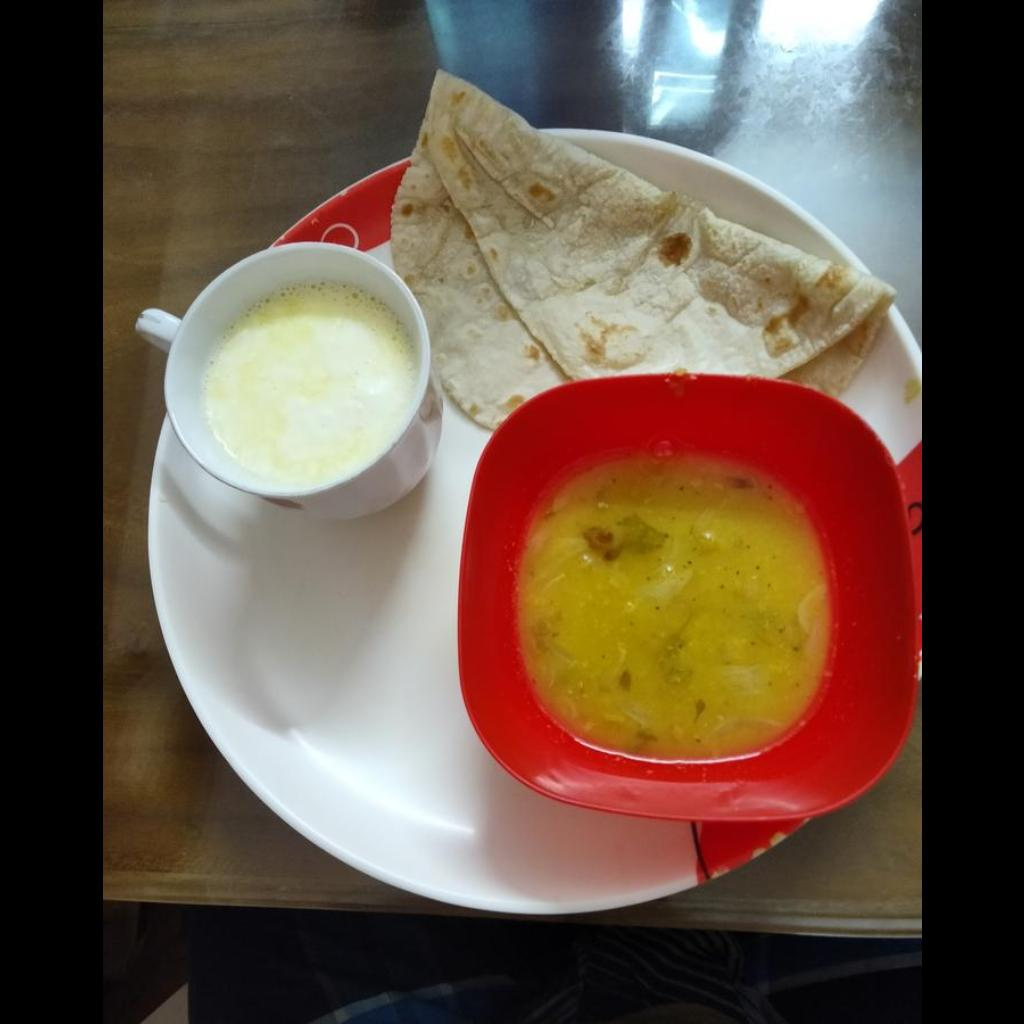daal: (507, 456, 825, 757)
milk: (196, 286, 410, 481)
ruti: (390, 66, 895, 428)
